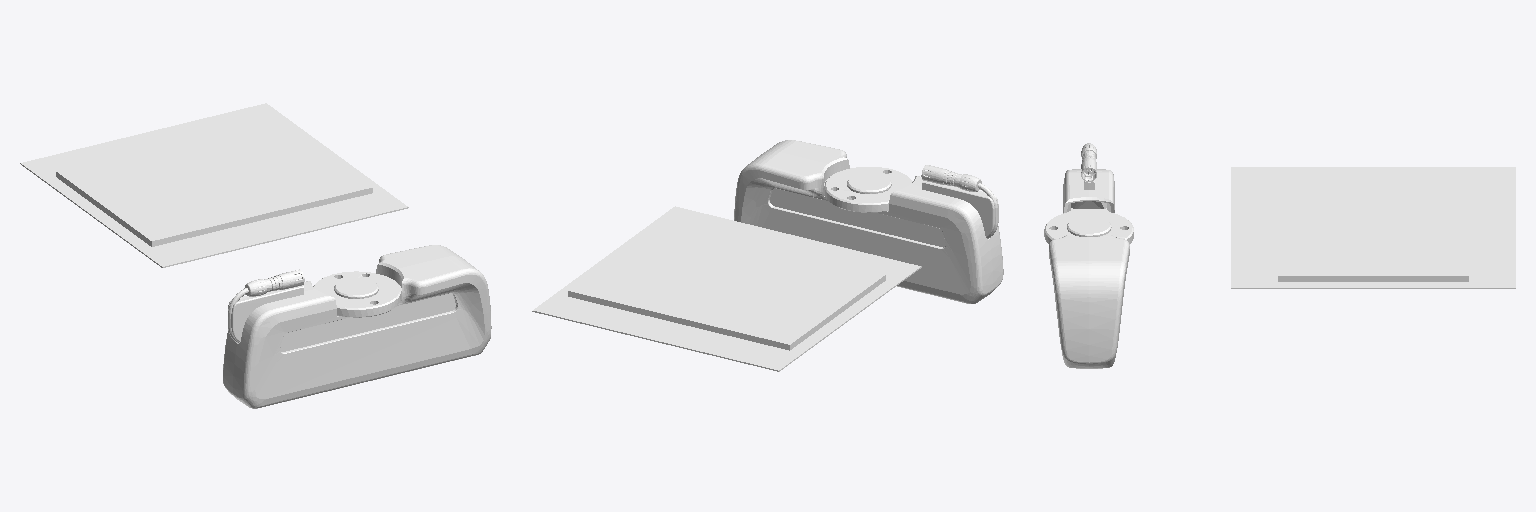
The robot description file, URDF, robot "panda":
<?xml version="1.0" ?>
<!-- =================================================================================== -->
<!-- |    This document was autogenerated by xacro from panda_arm_hand.urdf.xacro      | -->
<!-- |    EDITING THIS FILE BY HAND IS NOT RECOMMENDED                                 | -->
<!-- =================================================================================== -->
<robot name="panda" xmlns:xacro="http://www.ros.org/wiki/xacro">
  <link name="panda_link0">
    <visual>
      <geometry>
        <mesh filename="meshes/visual/link0.obj"/>
      </geometry>
      <material name="panda_white"/>
    </visual>
    <collision>
      <geometry>
        <mesh filename="meshes/collision/link0.obj"/>
      </geometry>
      <material name="panda_white"/>
    </collision>
  </link>
  <link name="panda_link1">
    <visual>
      <geometry>
        <mesh filename="meshes/visual/link1.obj"/>
      </geometry>
      <material name="panda_white"/>
    </visual>
    <collision>
      <geometry>
        <mesh filename="meshes/collision/link1.obj"/>
      </geometry>
      <material name="panda_white"/>
    </collision>
  </link>
  <joint name="panda_joint1" type="revolute">
    <safety_controller k_position="100.0" k_velocity="40.0" soft_lower_limit="-2.8973" soft_upper_limit="2.8973"/>
    <origin rpy="0 0 0" xyz="0 0 0.333"/>
    <parent link="panda_link0"/>
    <child link="panda_link1"/>
    <axis xyz="0 0 1"/>
    <limit effort="87" lower="-2.9671" upper="2.9671" velocity="2.1750"/>
  </joint>
  <link name="panda_link2">
    <visual>
      <geometry>
        <mesh filename="meshes/visual/link2.obj"/>
      </geometry>
      <material name="panda_white"/>
    </visual>
    <collision>
      <geometry>
        <mesh filename="meshes/collision/link2.obj"/>
      </geometry>
      <material name="panda_white"/>
    </collision>
  </link>
  <joint name="panda_joint2" type="revolute">
    <safety_controller k_position="100.0" k_velocity="40.0" soft_lower_limit="-1.7628" soft_upper_limit="1.7628"/>
    <origin rpy="-1.57079632679 0 0" xyz="0 0 0"/>
    <parent link="panda_link1"/>
    <child link="panda_link2"/>
    <axis xyz="0 0 1"/>
    <limit effort="87" lower="-1.8326" upper="1.8326" velocity="2.1750"/>
  </joint>
  <link name="panda_link3">
    <visual>
      <geometry>
        <mesh filename="meshes/visual/link3.obj"/>
      </geometry>
      <material name="panda_white"/>
    </visual>
    <collision>
      <geometry>
        <mesh filename="meshes/collision/link3.obj"/>
      </geometry>
      <material name="panda_white"/>
    </collision>
  </link>
  <joint name="panda_joint3" type="revolute">
    <safety_controller k_position="100.0" k_velocity="40.0" soft_lower_limit="-2.8973" soft_upper_limit="2.8973"/>
    <origin rpy="1.57079632679 0 0" xyz="0 -0.316 0"/>
    <parent link="panda_link2"/>
    <child link="panda_link3"/>
    <axis xyz="0 0 1"/>
    <limit effort="87" lower="-2.9671" upper="2.9671" velocity="2.1750"/>
  </joint>
  <link name="panda_link4">
    <visual>
      <geometry>
        <mesh filename="meshes/visual/link4.obj"/>
      </geometry>
      <material name="panda_white"/>
    </visual>
    <collision>
      <geometry>
        <mesh filename="meshes/collision/link4.obj"/>
      </geometry>
      <material name="panda_white"/>
    </collision>
  </link>
  <joint name="panda_joint4" type="revolute">
    <safety_controller k_position="100.0" k_velocity="40.0" soft_lower_limit="-3.0718" soft_upper_limit="-0.0698"/>
    <origin rpy="1.57079632679 0 0" xyz="0.0825 0 0"/>
    <parent link="panda_link3"/>
    <child link="panda_link4"/>
    <axis xyz="0 0 1"/>
    <limit effort="87" lower="-3.1416" upper="0.0" velocity="2.1750"/>
  </joint>
  <link name="panda_link5">
    <visual>
      <geometry>
        <mesh filename="meshes/visual/link5.obj"/>
      </geometry>
      <material name="panda_white"/>
    </visual>
    <collision>
      <geometry>
        <mesh filename="meshes/collision/link5.obj"/>
      </geometry>
      <material name="panda_white"/>
    </collision>
  </link>
  <joint name="panda_joint5" type="revolute">
    <safety_controller k_position="100.0" k_velocity="40.0" soft_lower_limit="-2.8973" soft_upper_limit="2.8973"/>
    <origin rpy="-1.57079632679 0 0" xyz="-0.0825 0.384 0"/>
    <parent link="panda_link4"/>
    <child link="panda_link5"/>
    <axis xyz="0 0 1"/>
    <limit effort="12" lower="-2.9671" upper="2.9671" velocity="2.6100"/>
  </joint>
  <link name="panda_link6">
    <visual>
      <geometry>
        <mesh filename="meshes/visual/link6.obj"/>
      </geometry>
      <material name="panda_white"/>
    </visual>
    <collision>
      <geometry>
        <mesh filename="meshes/collision/link6.obj"/>
      </geometry>
      <material name="panda_white"/>
    </collision>
  </link>
  <joint name="panda_joint6" type="revolute">
    <safety_controller k_position="100.0" k_velocity="40.0" soft_lower_limit="-0.0175" soft_upper_limit="3.7525"/>
    <origin rpy="1.57079632679 0 0" xyz="0 0 0"/>
    <parent link="panda_link5"/>
    <child link="panda_link6"/>
    <axis xyz="0 0 1"/>
    <limit effort="12" lower="-0.0873" upper="3.8223" velocity="2.6100"/>
  </joint>
  <link name="panda_link7">
    <visual>
      <geometry>
        <mesh filename="meshes/visual/link7.obj"/>
      </geometry>
      <material name="panda_white"/>
    </visual>
    <collision>
      <geometry>
        <mesh filename="meshes/collision/link7.obj"/>
      </geometry>
      <material name="panda_white"/>
    </collision>
  </link>
  <joint name="panda_joint7" type="revolute">
    <safety_controller k_position="100.0" k_velocity="40.0" soft_lower_limit="-2.8973" soft_upper_limit="2.8973"/>
    <origin rpy="1.57079632679 0 0" xyz="0.088 0 0"/>
    <parent link="panda_link6"/>
    <child link="panda_link7"/>
    <axis xyz="0 0 1"/>
    <limit effort="12" lower="-2.9671" upper="2.9671" velocity="2.6100"/>
  </joint>
  <link name="panda_link8"/>
  <joint name="panda_joint8" type="fixed">
    <origin rpy="0 0 0" xyz="0 0 0.107"/>
    <parent link="panda_link7"/>
    <child link="panda_link8"/>
    <axis xyz="0 0 0"/>
  </joint>
  <joint name="panda_hand_joint" type="fixed">
    <parent link="panda_link8"/>
    <child link="panda_hand"/>
    <origin rpy="0 0 0" xyz="0 0 0"/>
  </joint>
  <link name="panda_hand">
    <visual>
      <geometry>
        <mesh filename="meshes/visual/hand.obj"/>
      </geometry>
      <material name="panda_white"/>
    </visual>
    <collision>
      <geometry>
        <mesh filename="meshes/collision/hand.obj"/>
      </geometry>
      <material name="panda_white"/>
    </collision>
  </link>

  <link name="panda_calibration">
    <visual>
      <geometry>
        <mesh filename="meshes/visual/calibration_panda.obj"/>
      </geometry>
      <material name="panda_white"/>
    </visual>
    <collision>
      <geometry>
        <mesh filename="meshes/visual/calibration_panda.obj"/>
      </geometry>
      <material name="panda_white"/>
    </collision>
  </link>
 
  
   <joint name="panda_calibration" type="fixed">
    <parent link="panda_hand"/>
    <child link="panda_calibration"/>
    <origin rpy="0 0 0" xyz="0 -0.2 0"/>
  </joint>
  
  <material name="panda_white">
    <color rgba="1. 1. 1. 1."/>
  </material>
</robot>

--- Facts derived from the render (not from the file) ---
The picture shows the robot from 3 angles, left to right: view 1: azimuth 30°, elevation 25°; view 2: azimuth 150°, elevation 25°; view 3: azimuth 270°, elevation 25°; orthographic projection.
Robot: panda — 11 links, 10 joints (7 revolute, 3 fixed); root link panda_link0; default pose: all joints at 0.
Links seen in each view (by area): view 1: panda_calibration, panda_hand; view 2: panda_calibration, panda_hand; view 3: panda_calibration, panda_hand.
Boxes of the visible links, x1,y1,x2,y2 form: panda_calibration: (20, 103, 408, 267); panda_hand: (223, 245, 491, 408); panda_calibration: (532, 206, 921, 371); panda_hand: (734, 140, 1003, 303); panda_calibration: (1231, 167, 1515, 288); panda_hand: (1044, 143, 1133, 368).
Bounding box of the posed robot: 0.2045 × 0.3315 × 0.0919 m (x, y, z).
2 mesh visuals loaded from 10 distinct referenced files (2 OBJ); not drawn: 8 (reference not matched to a file when rendering).